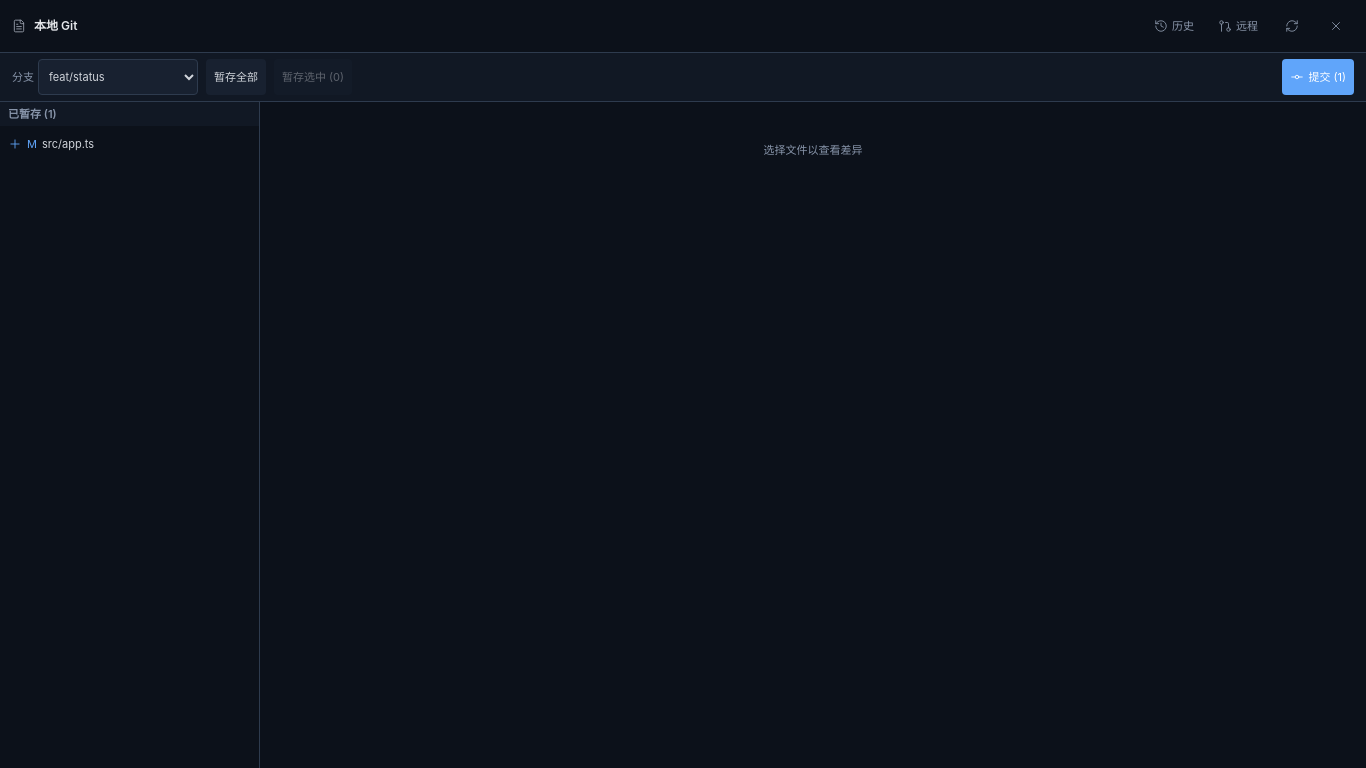
GitChangesPanel navigation › contains the embedded commit dialog, traps focus, closes with Escape, and restores focus
Click the button "提交 (1)".
click(1318, 77)  # box [1282,59,1354,95]
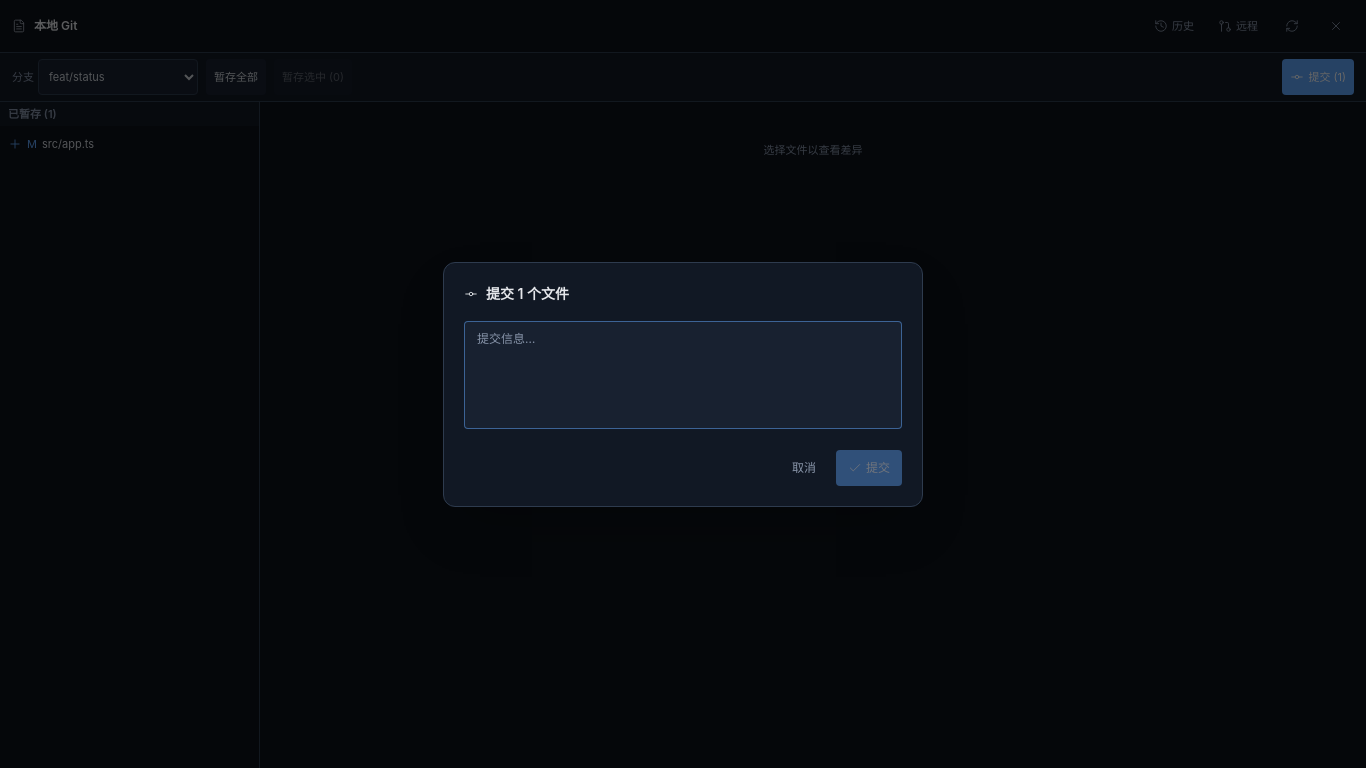
Type "feat: embedded git" into the text box with placeholder "提交信息…".
click(683, 374); type("feat: embedded git")  # box [464,320,902,428]
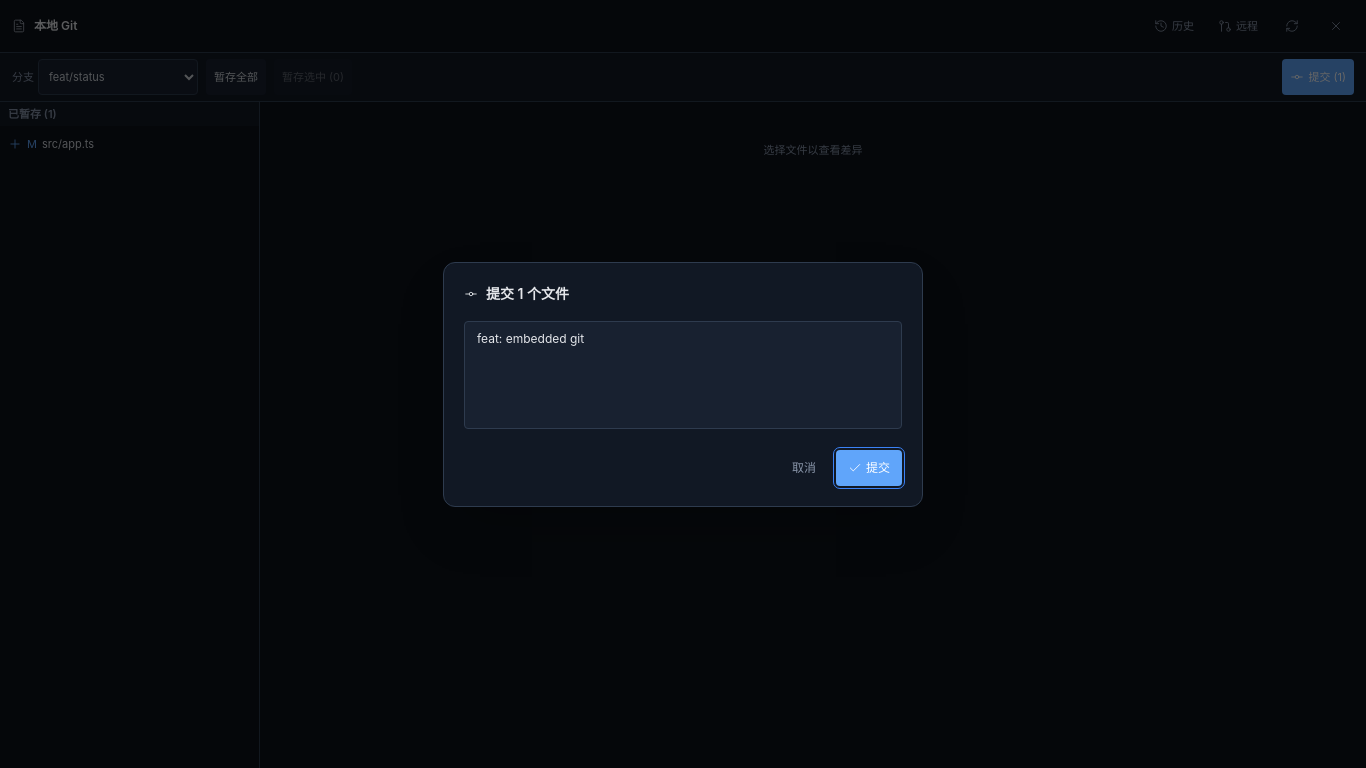
Press Tab
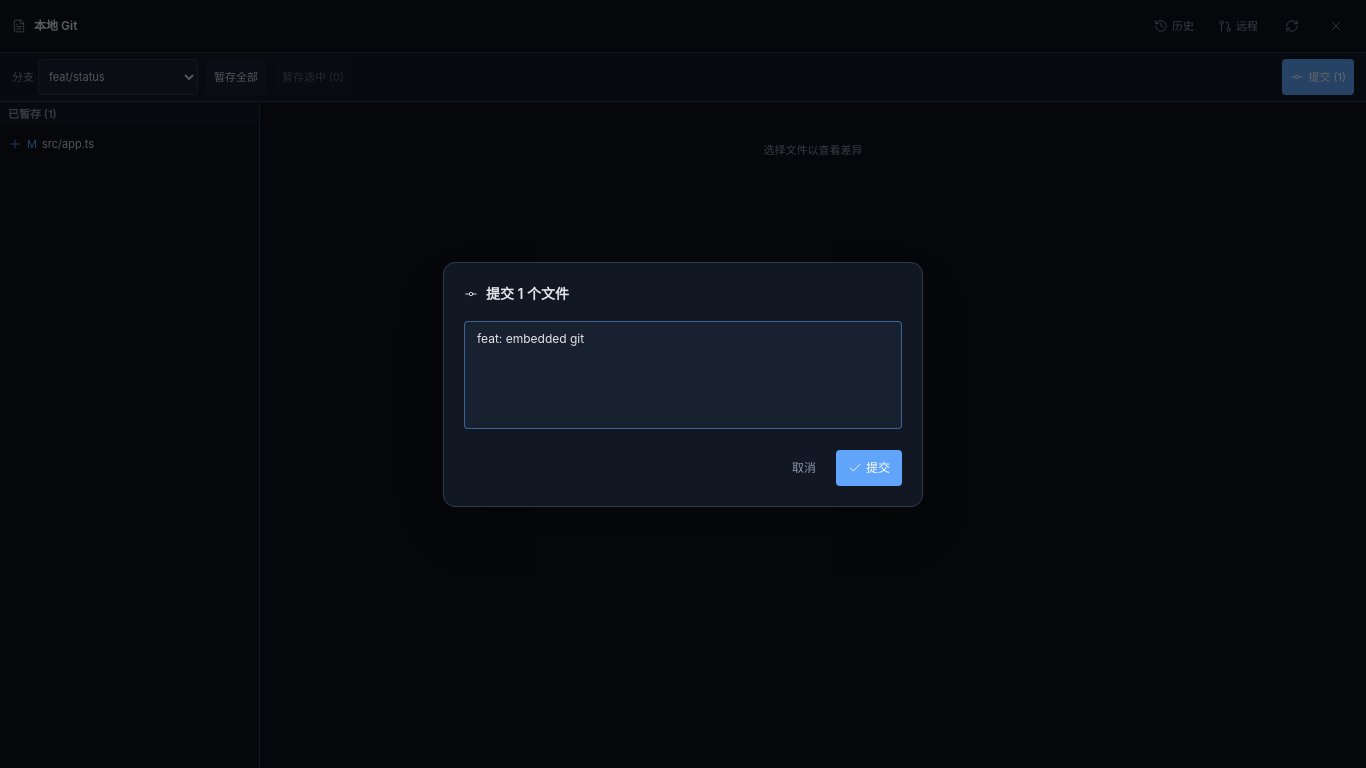
Press Escape
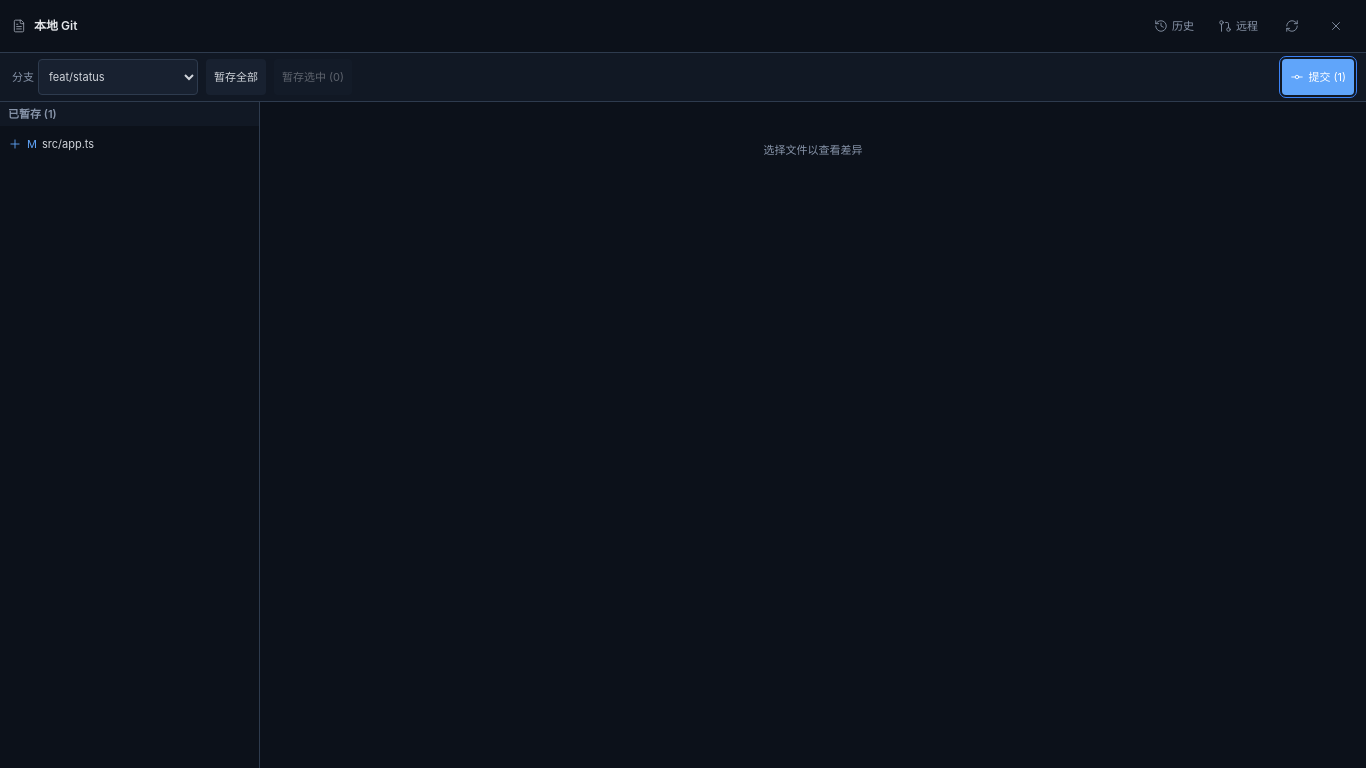
expect the heading "提交 1 个文件" is gone: met
